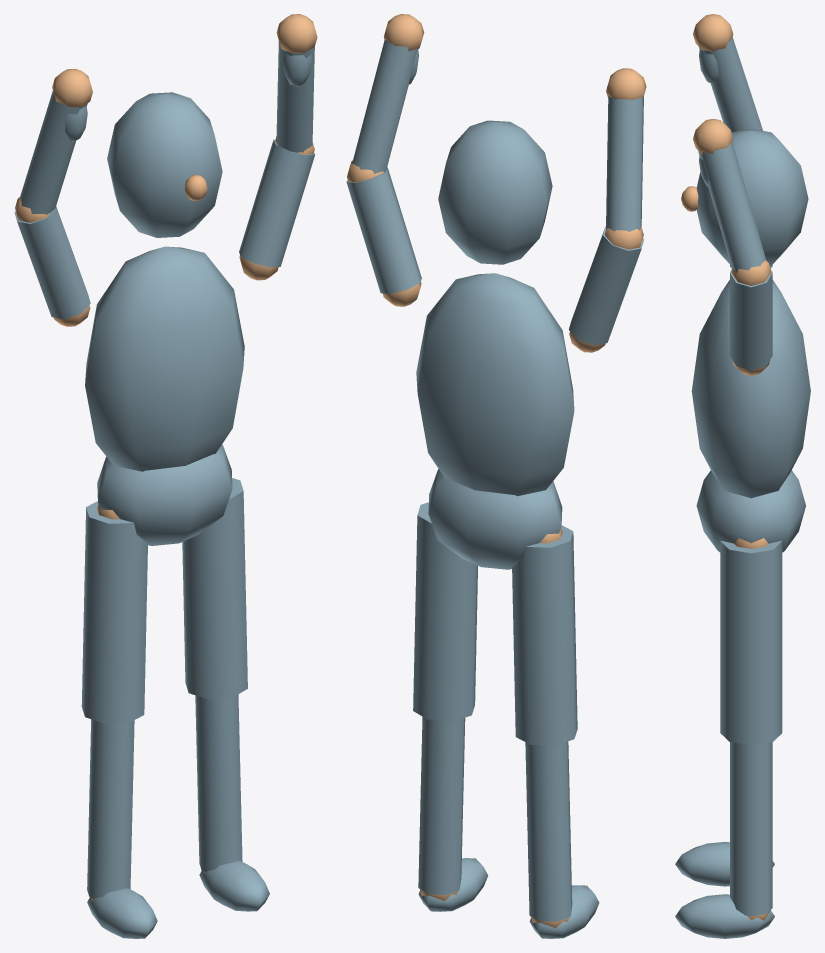
Rendered from pose-reaching-3d.glb.
3 views of the same model, side by side, from view 1: azimuth 30°, elevation 25°; view 2: azimuth 150°, elevation 25°; view 3: azimuth 270°, elevation 25° (orthographic). The views are drawn at different scales.
Parts seen in each view (by area): view 1: rib-cage, left-thigh, head, right-thigh, pelvis, left-shin, right-shin, right-upper-arm, left-upper-arm, left-forearm, right-forearm, foot-la (+4 smaller); view 2: rib-cage, head, left-thigh, right-thigh, pelvis, left-shin, right-shin, right-upper-arm, left-forearm, right-forearm, left-upper-arm, foot-la (+4 smaller); view 3: rib-cage, right-thigh, head, right-shin, pelvis, right-forearm, right-upper-arm, left-forearm, foot-ra, foot-la, joint-lw, joint-rw (+3 smaller).
Boxes of the visible parts, <box> form: rib-cage: <box>85,246,244,471</box>; left-thigh: <box>81,501,147,723</box>; head: <box>107,92,222,237</box>; right-thigh: <box>182,478,247,699</box>; pelvis: <box>97,444,232,545</box>; left-shin: <box>87,719,134,898</box>; right-shin: <box>195,694,242,871</box>; right-upper-arm: <box>239,139,315,267</box>; left-upper-arm: <box>14,206,90,319</box>; left-forearm: <box>20,91,87,214</box>; right-forearm: <box>276,41,314,152</box>; foot-la: <box>87,888,157,938</box>; rib-cage: <box>416,273,574,496</box>; head: <box>438,120,552,264</box>; left-thigh: <box>512,525,577,745</box>; right-thigh: <box>413,502,477,721</box>; pelvis: <box>428,469,562,569</box>; left-shin: <box>525,741,572,921</box>; right-shin: <box>418,716,465,895</box>; right-upper-arm: <box>346,167,421,293</box>; left-forearm: <box>606,96,643,231</box>; right-forearm: <box>352,40,417,173</box>; left-upper-arm: <box>569,226,644,345</box>; foot-la: <box>529,885,599,938</box>; rib-cage: <box>691,280,810,498</box>; right-thigh: <box>720,540,782,745</box>; head: <box>696,129,808,265</box>; right-shin: <box>730,742,772,916</box>; pelvis: <box>696,470,805,552</box>; right-forearm: <box>698,142,766,272</box>; right-upper-arm: <box>730,269,772,370</box>; left-forearm: <box>699,37,762,132</box>; foot-ra: <box>675,894,774,938</box>; foot-la: <box>675,842,774,886</box>; joint-lw: <box>693,14,733,51</box>; joint-rw: <box>693,119,733,154</box>.
Size of the model in its own units: 0.685 by 1.95 by 0.285.
